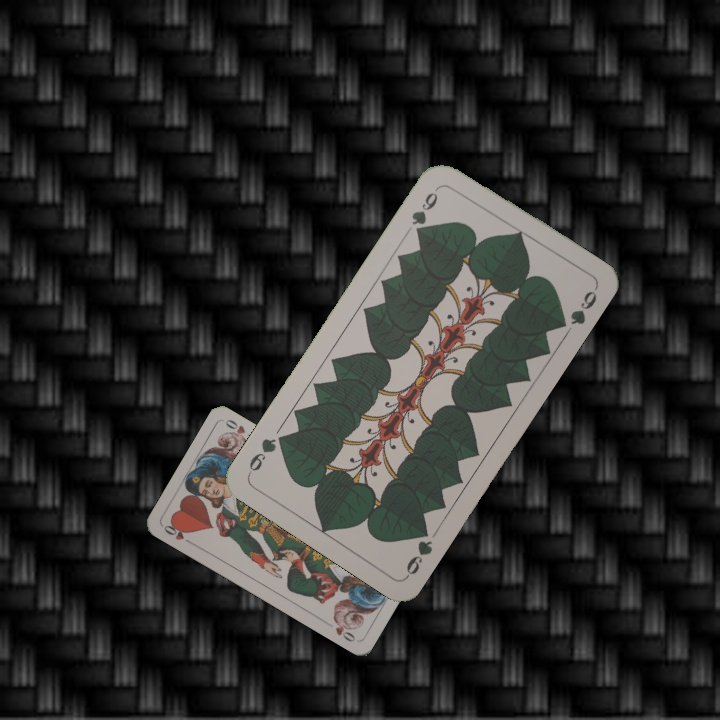G9: (407, 182, 443, 239), (402, 521, 436, 580)
HO: (160, 518, 196, 547)
